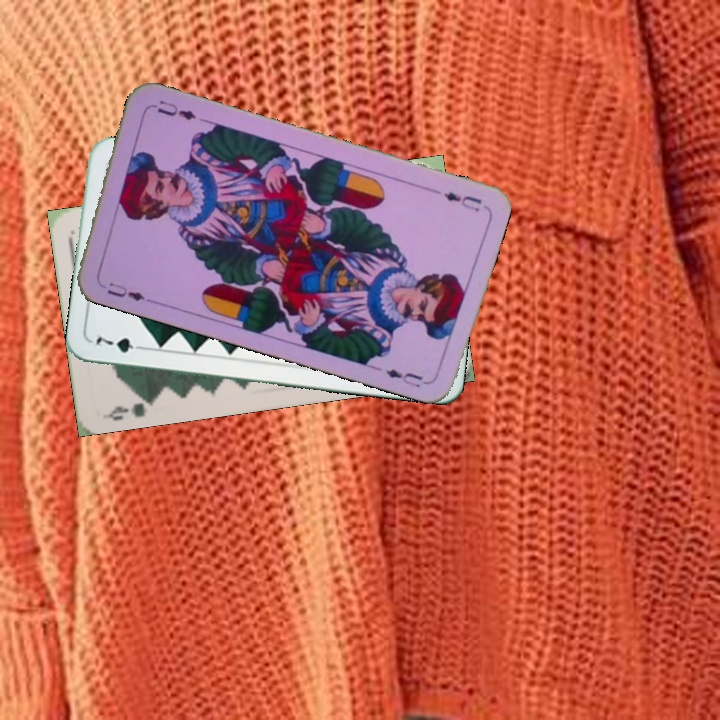EU: (96, 278, 147, 304), (440, 187, 485, 215)
G7: (91, 332, 149, 356)
G9: (101, 392, 158, 423)
